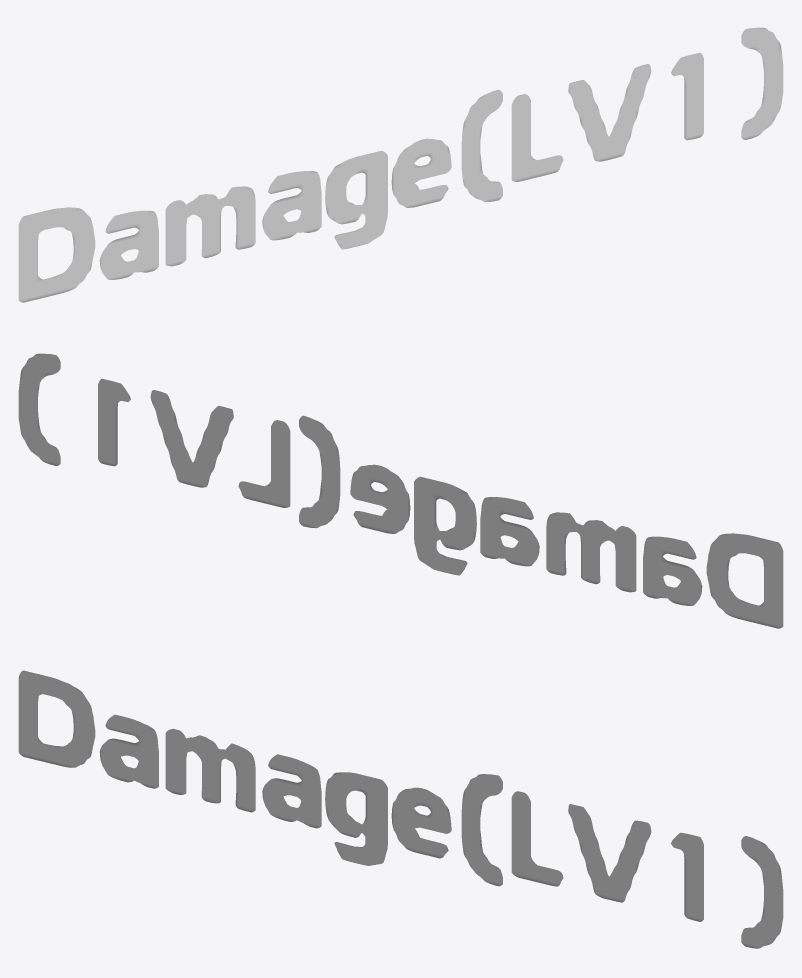
The model's file is Mesh_154_99f667e9__Watford_DB-18_d27661a7_9c9708.obj.
3 renders of one model, top to bottom at view 1: azimuth 30°, elevation 25°; view 2: azimuth 150°, elevation 25°; view 3: azimuth 330°, elevation 25°, orthographic.
Bounding box in the file's own units: 59.5 × 10 × 0.
Materials: 1 (1 with a texture image).
